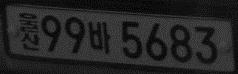3: (194, 25, 218, 64)
5: (121, 20, 142, 59)
6: (145, 22, 168, 61)
8: (169, 23, 193, 63)
9: (63, 15, 86, 54), (40, 13, 61, 51)
바: (87, 19, 111, 54)
울산_V: (18, 11, 41, 51)
